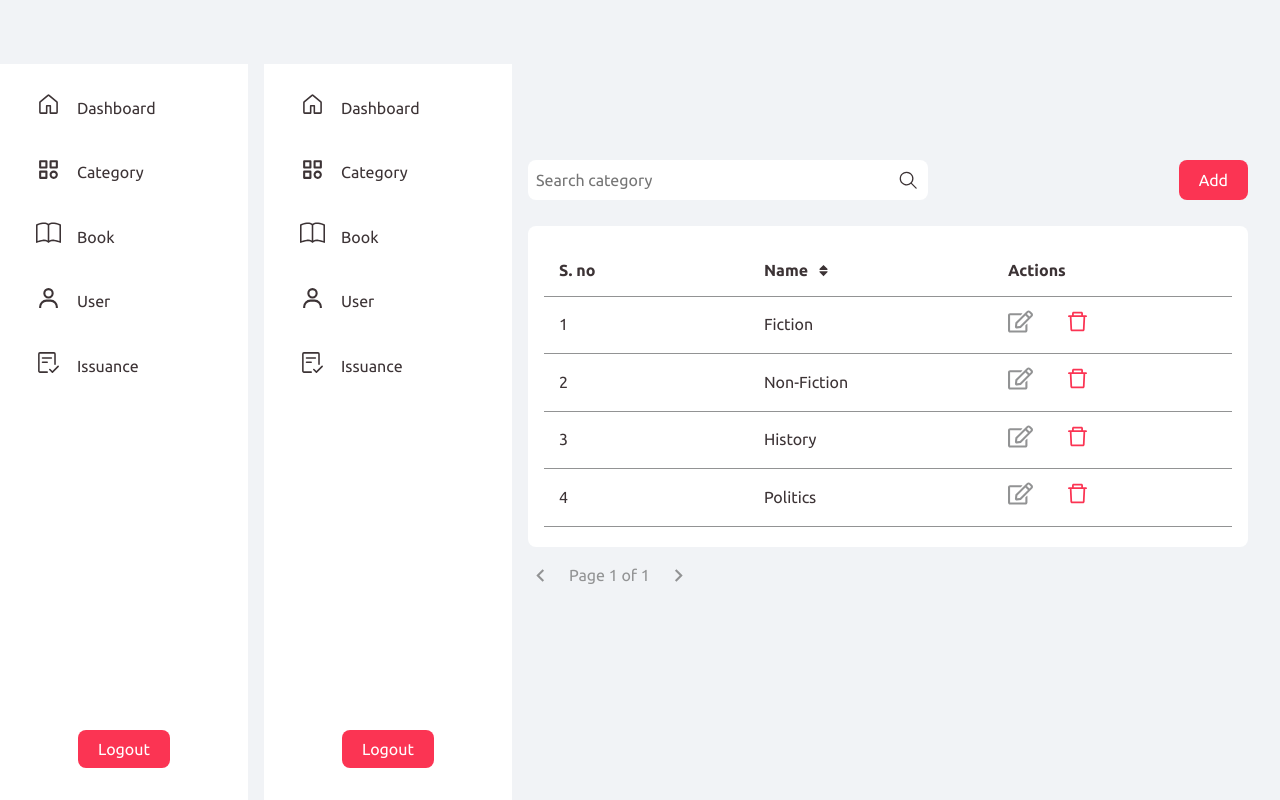
Category component › updates an existing category
Click the icon with test id "edit-icon-1". click: (1020, 328)
box: 1008,319 -> 1033,337
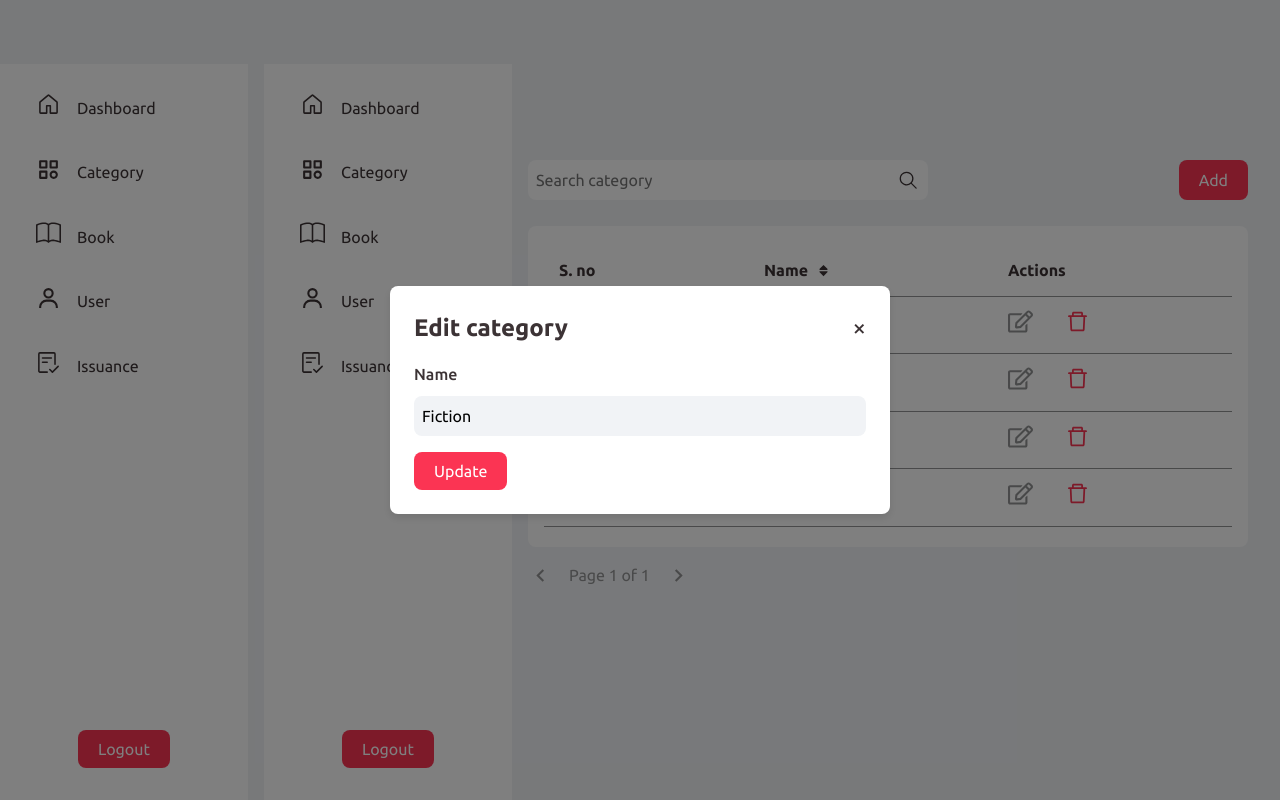
Expected: the button "Update" is shown, 414,452 -> 507,490
Replace the text in the field with placeholder "Enter category name" with "Fiction Updated". click: (640, 416)
box: 414,396 -> 866,436
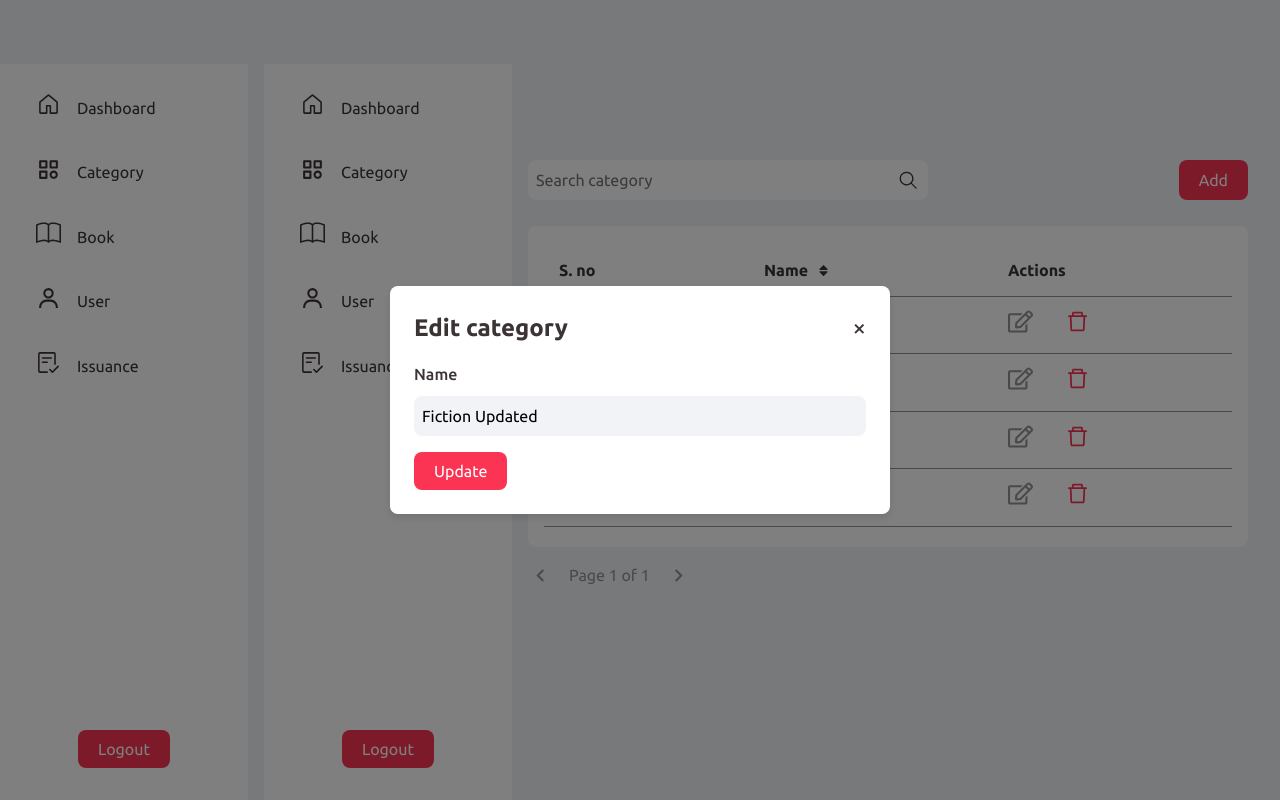
Click the button "Update". click: (461, 471)
box: 414,452 -> 507,490
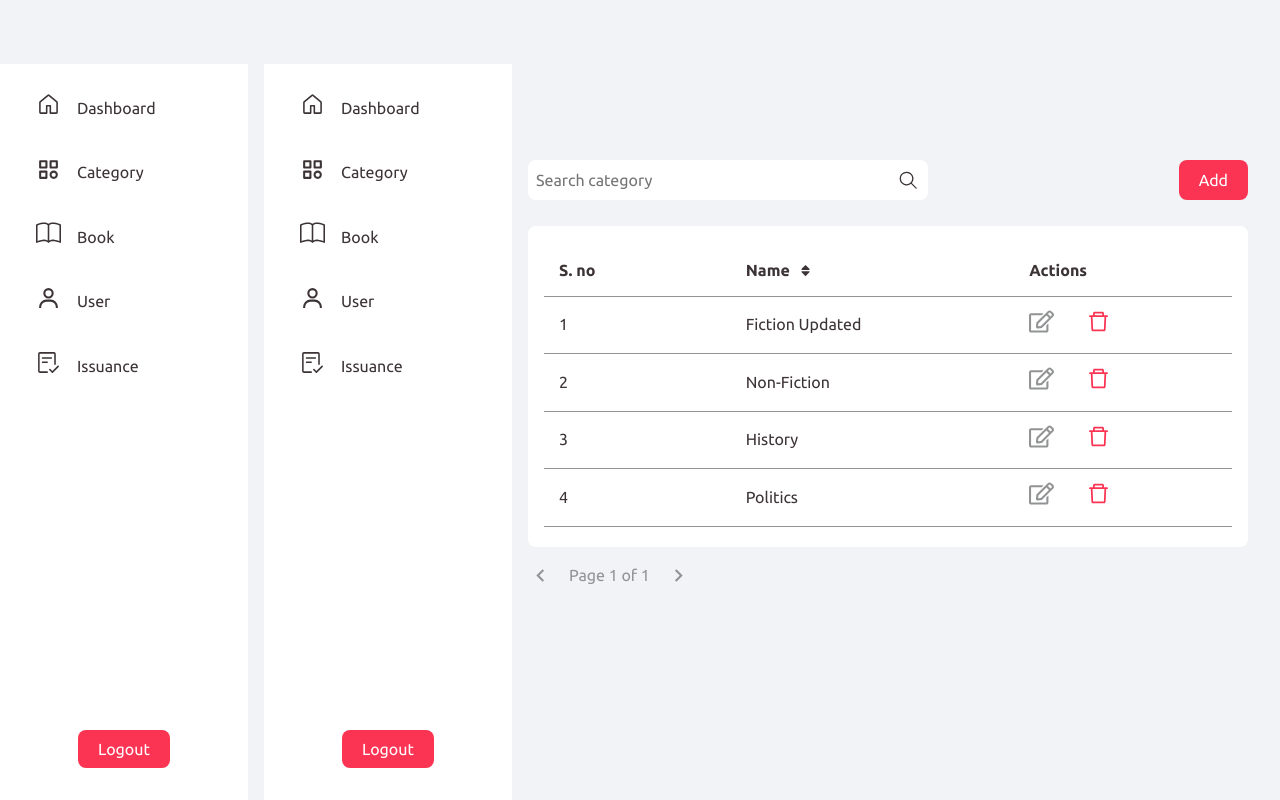
Expected: the text "Fiction Updated" is shown, 731,296 -> 1014,354
